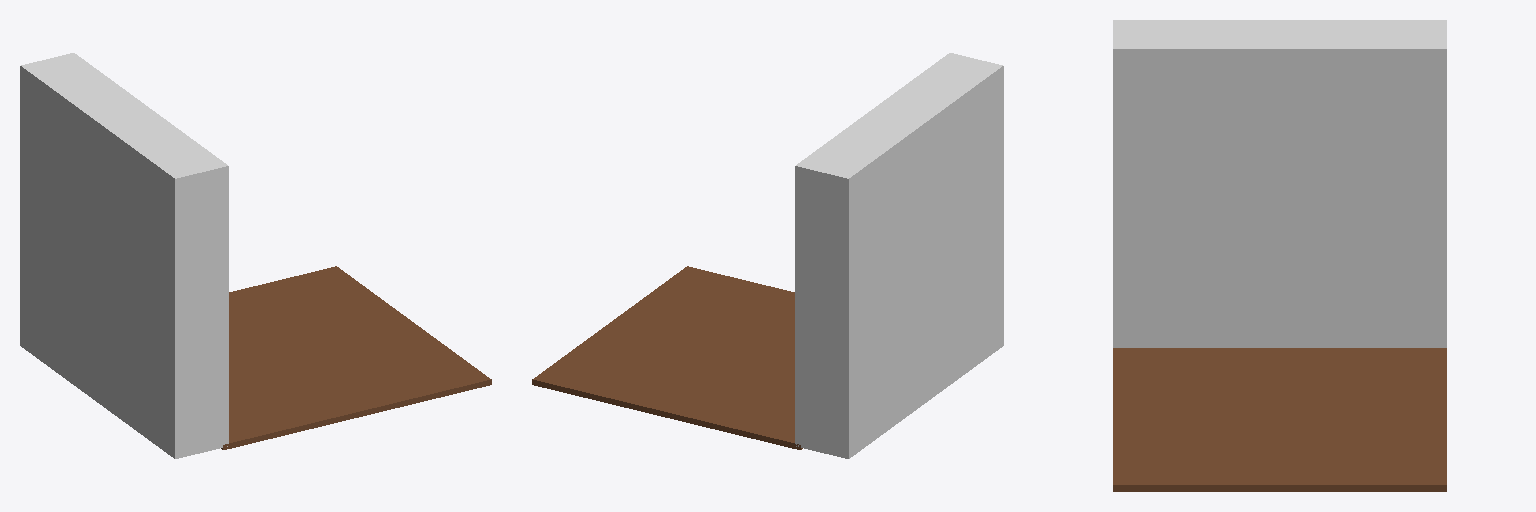
robot.urdf — table_with_wall:
<?xml version="1.0" ?>
<robot name="table_with_wall">

  <!-- Table link -->
  <link name="table_link">
    <contact>
      <lateral_friction value="1"/>
    </contact>
    <inertial>
      <origin rpy="0 0 0" xyz="0 0 0"/>
      <mass value="0.0"/>
      <inertia ixx="0" ixy="0" ixz="0" iyy="0" iyz="0" izz="0"/>
    </inertial>
    <visual>
      <origin rpy="0 0 0" xyz="0 0 0"/>
      <geometry>
        <box size="0.5 0.5 0.01"/>
      </geometry>
      <material name="wooden">
        <color rgba="0.52 0.36 0.25 1"/>
      </material>
    </visual>
    <collision>
      <origin rpy="0 0 0" xyz="0 0 0"/>
      <geometry>
        <box size="0.5 0.5 0.01"/>
      </geometry>
    </collision>
  </link>

  <!-- Wall link -->
  <link name="wall_link">
    <contact>
        <lateral_friction value="1.0"/>
        <rolling_friction value="0.0001"/>
        <inertia_scaling value="3.0"/>
    </contact>
    <inertial>
        <origin rpy="0 0 0" xyz="0 0 0"/>
        <mass value="1"/>
        <inertia ixx="1" ixy="0" ixz="0" iyy="1" iyz="0" izz="1"/>
    </inertial>
    <visual>
      <origin rpy="0 0 0" xyz="-0.55 0 0.25"/>
      <geometry>
        <box size="0.1 0.5 0.5"/>
      </geometry>
      <material name="wall_color">
        <color rgba="0.9 0.9 0.9 1"/>
      </material>
    </visual>
    <collision>
      <origin rpy="0 0 0" xyz="-0.55 0 0.25"/>
      <geometry>
        <box size="0.1 0.5 0.5"/>
      </geometry>
    </collision>
  </link>

  <joint name="wall_to_table" type="fixed">
    <parent link="table_link"/>
    <child link="wall_link"/>
    <origin xyz="0.26 0 0" rpy="0 0 0"/>
  </joint>

</robot>

--- Render facts (derived) ---
The picture shows the robot from 3 angles, left to right: view 1: azimuth 30°, elevation 25°; view 2: azimuth 150°, elevation 25°; view 3: azimuth 270°, elevation 25°; orthographic projection.
Robot: table_with_wall — 2 links, 1 joints (1 fixed); root link table_link; default pose: all joints at 0.
Links seen in each view (by area): view 1: wall_link, table_link; view 2: wall_link, table_link; view 3: wall_link, table_link.
Link boxes in pixels (x1,y1,x2,y2): wall_link: [20, 53, 228, 458]; table_link: [221, 266, 491, 449]; wall_link: [795, 53, 1003, 458]; table_link: [532, 266, 802, 449]; wall_link: [1113, 20, 1446, 347]; table_link: [1113, 348, 1446, 491].
Size in the robot's own frame: 0.59 by 0.5 by 0.505 metres.
Geometry: primitives only (box / cylinder / sphere), no mesh files.